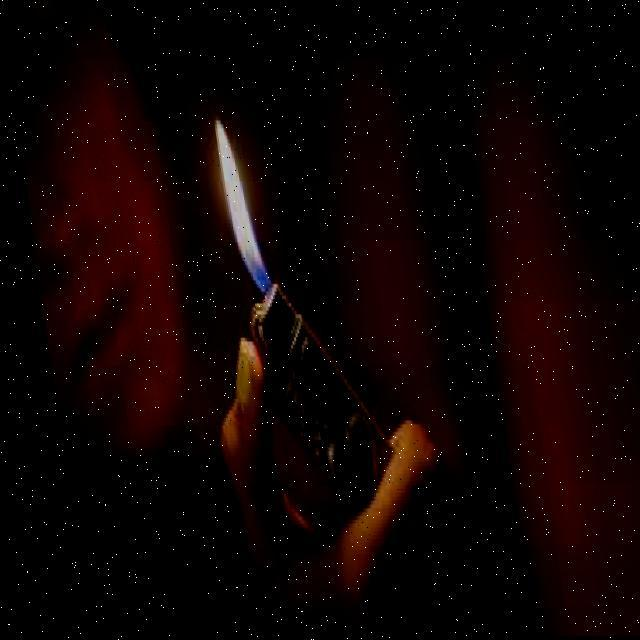Fire: (198, 110, 272, 296)
